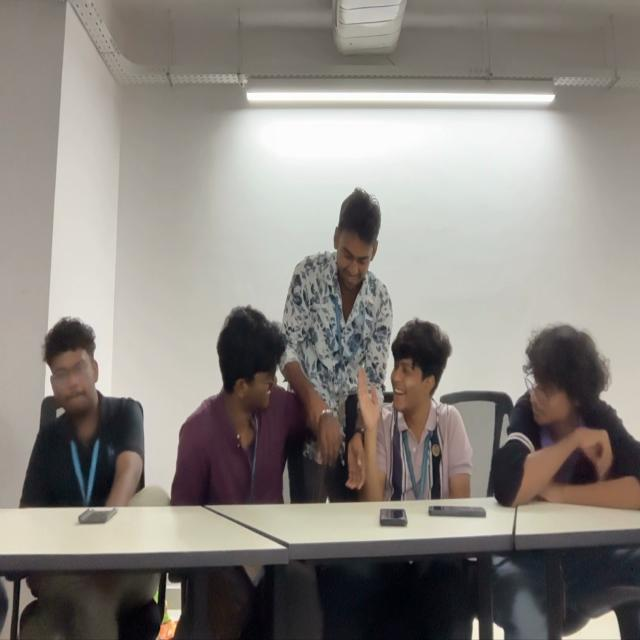Isolated: (492, 320, 640, 506), (25, 318, 145, 504)
socializing: (174, 192, 472, 500)
